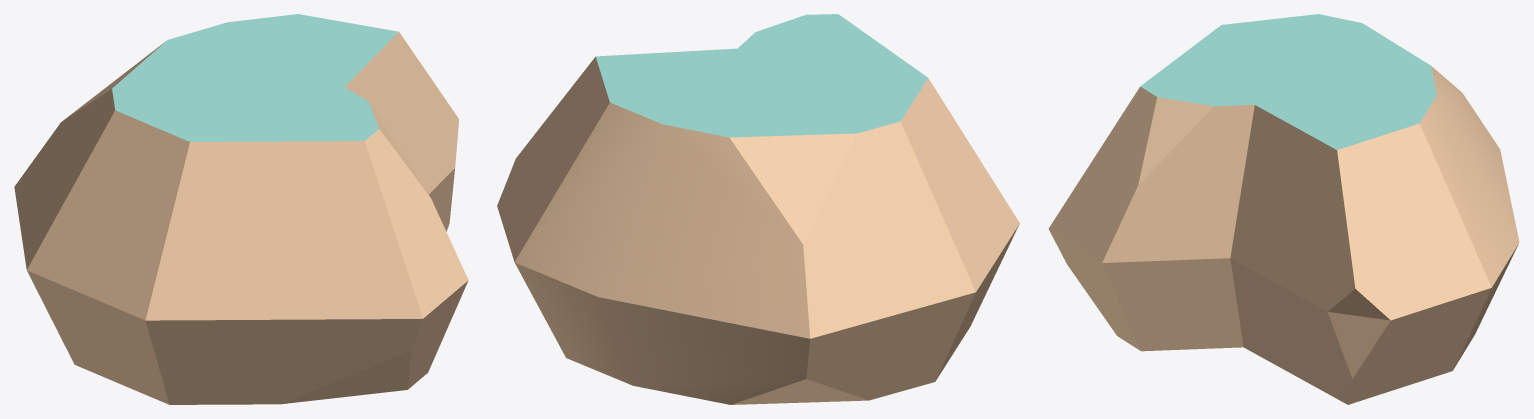
Rendered from rock_large4.glb.
3 views of the same model, side by side, from view 1: azimuth 30°, elevation 25°; view 2: azimuth 150°, elevation 25°; view 3: azimuth 270°, elevation 25° (orthographic). The views are drawn at different scales.
Parts seen in each view (by area): view 1: rock_large4; view 2: rock_large4; view 3: rock_large4.
Part boxes in pixels (<box>): rock_large4: <box>14,14,468,404</box>; rock_large4: <box>497,14,1019,404</box>; rock_large4: <box>1048,14,1519,404</box>.
Size of the model in its own units: 1.07 by 0.5683 by 1.03.
